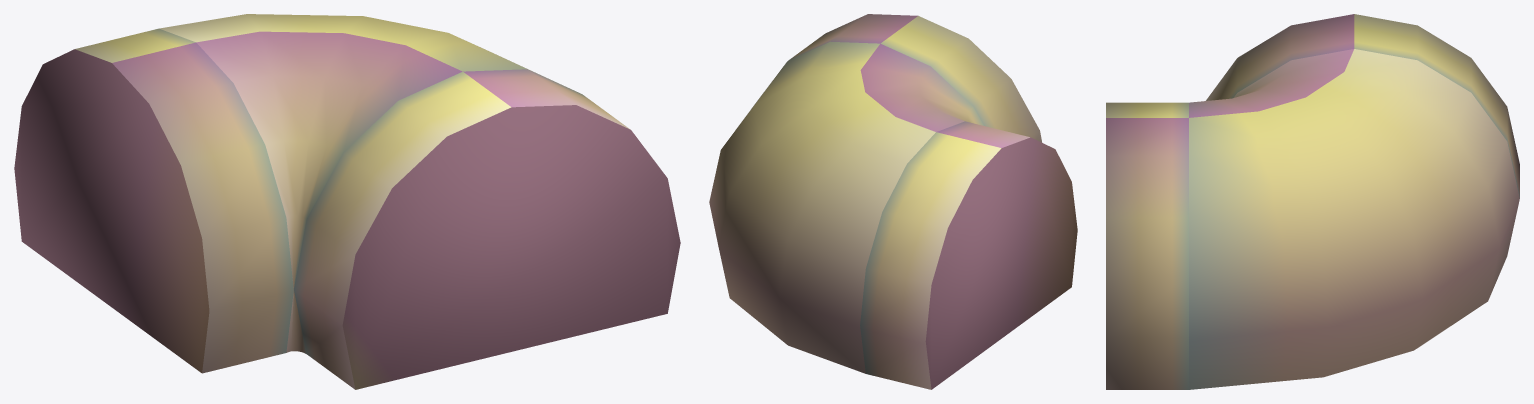
Rendered from Pipe.CornerB.Desert.glb.
3 views of the same model, side by side, from view 1: azimuth 30°, elevation 25°; view 2: azimuth 150°, elevation 25°; view 3: azimuth 270°, elevation 25° (orthographic). The views are drawn at different scales.
Visible parts, largest first — view 1: Pipe.CornerB.Desert; view 2: Pipe.CornerB.Desert; view 3: Pipe.CornerB.Desert.
Part boxes in pixels (bbox=[...]): Pipe.CornerB.Desert: bbox=[14, 14, 680, 389]; Pipe.CornerB.Desert: bbox=[709, 14, 1077, 389]; Pipe.CornerB.Desert: bbox=[1106, 14, 1519, 389].
Size of the model in its own units: 2.5 by 1.39 by 2.5.
1 material, 1 textured.
